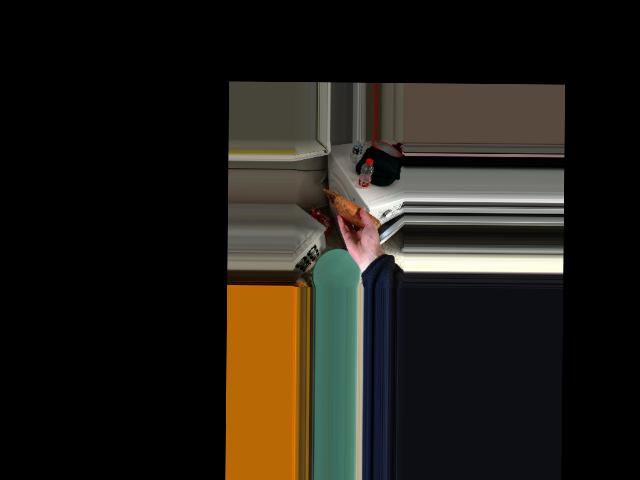sweet_potato: (342, 203, 378, 234)
